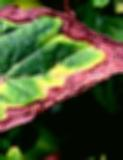Tomato leaf bacterial spot: (0, 0, 123, 141)
